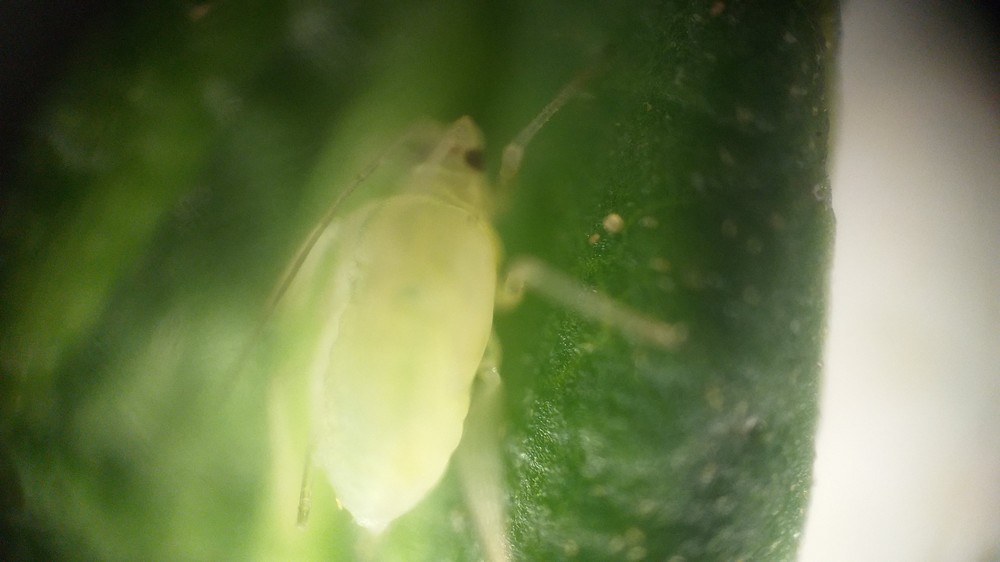Pulgon: (205, 62, 705, 558)
